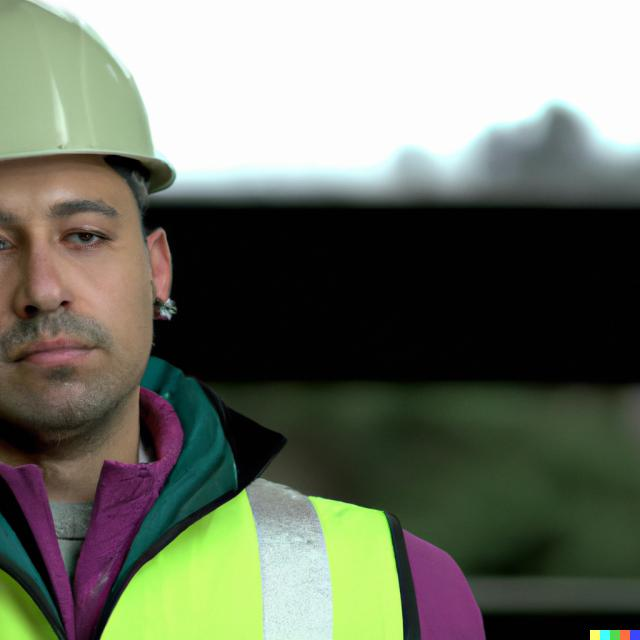Reflective-Jacket: (0, 428, 479, 639)
Safety-Helmet: (2, 2, 181, 198)
